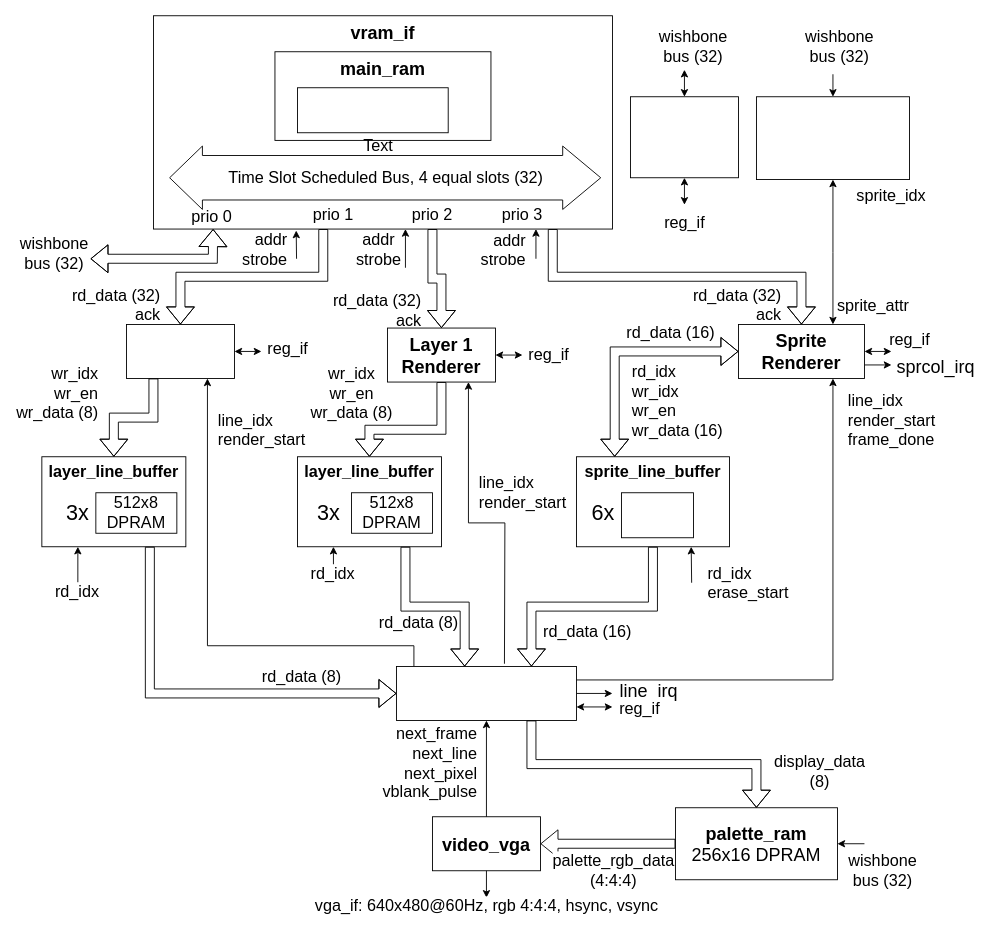
Some shapes in this 990 by 932 pixel diagram are drawn without their labels. Here are the shapes that lost their labels. From the top down, the centre of each, then its label:
At pixel 372 110: "64KB or 128KB SPRAM".
At pixel 684 137: "vera_top registers".
At pixel 832 138: "sprite_attr_ram 256x32 DPRAM".
At pixel 180 351: "Layer 0 Renderer".
At pixel 657 515: "256x16 DPRAM".
At pixel 486 693: "Composer".
